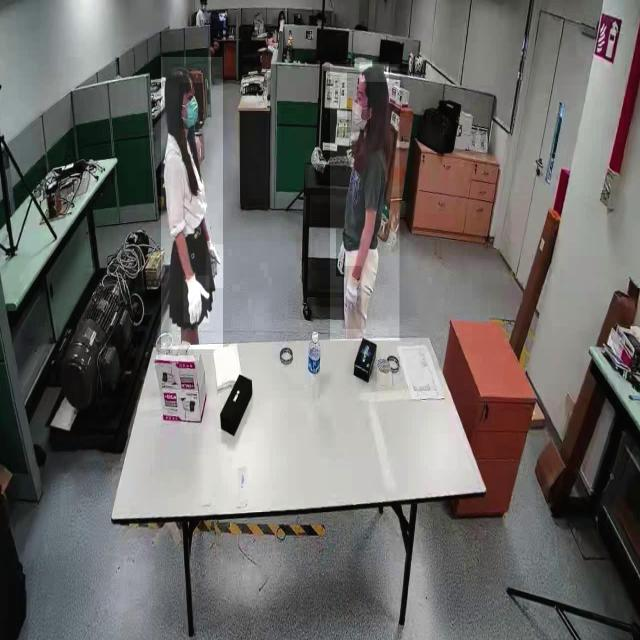face_mask: (347, 72, 370, 132), (179, 83, 203, 129)
hand_glove: (342, 266, 362, 330), (183, 276, 209, 324), (206, 244, 224, 289), (336, 228, 346, 278)
head_nohelmet: (359, 62, 389, 83), (165, 65, 193, 83)
person: (330, 64, 400, 341), (161, 57, 223, 350)
